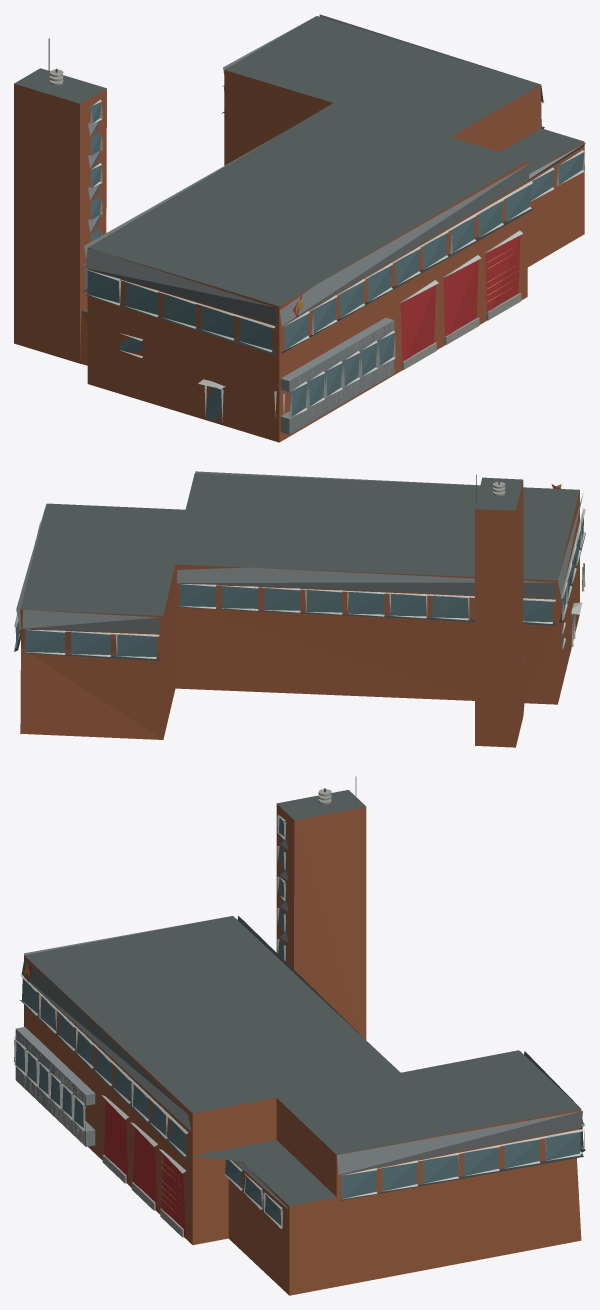
Rendered from fire-station-zebra.lod1.glb.
3 views of the same model, one above another, from view 1: azimuth 30°, elevation 25°; view 2: azimuth 150°, elevation 25°; view 3: azimuth 270°, elevation 25° (orthographic). The views are drawn at different scales.
Visible parts, largest first — view 1: fire-station-zebra; view 2: fire-station-zebra; view 3: fire-station-zebra.
Boxes of the visible parts, x1,y1,x2,y2 form: fire-station-zebra: (14,14,585,442); fire-station-zebra: (14,471,585,747); fire-station-zebra: (14,776,585,1295).
Size of the model in its own units: 37.83 by 19.6 by 35.9.
